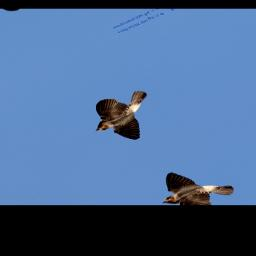Swallow: (74, 83, 176, 152)
